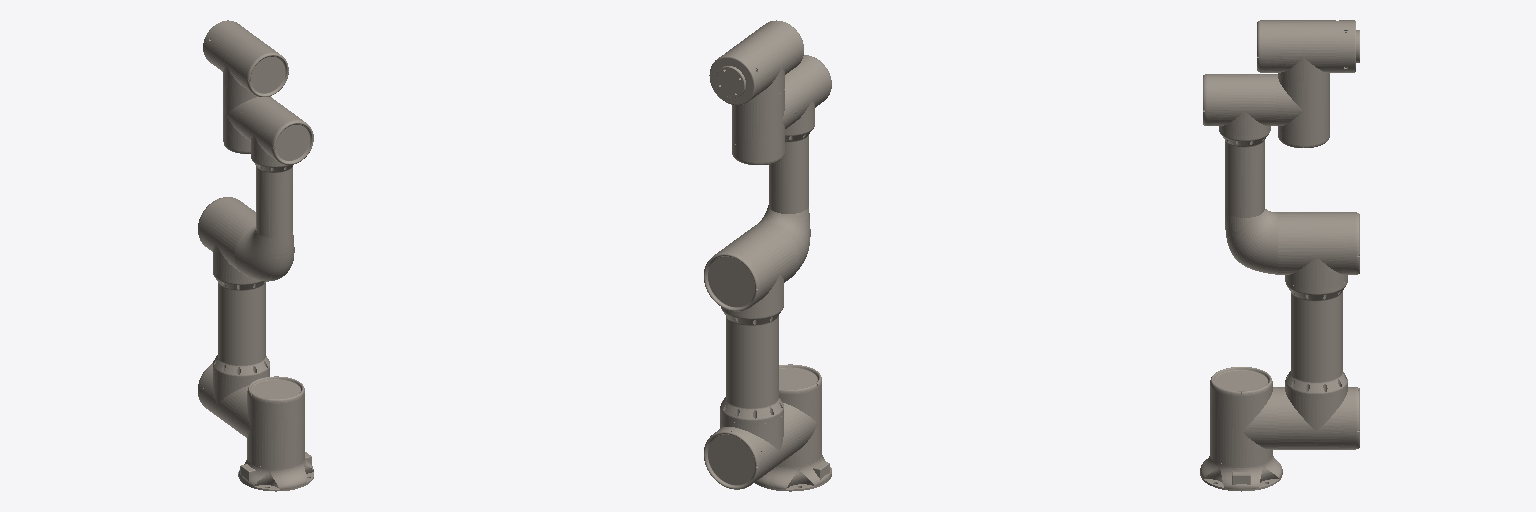
URDF robot description (UR06_ultimate):
<?xml version="1.0" encoding="utf-8"?>
<!-- This URDF was automatically created by SolidWorks to URDF Exporter! Originally created by [author] ([email redacted]) 
     Commit Version: 1.6.0-4-g7f85cfe  Build Version: 1.6.7995.38578
     For more information, please see http://wiki.ros.org/sw_urdf_exporter -->
<robot
  name="UR06_ultimate">
  <link
    name="link0">
    <inertial>
      <origin
        xyz="-4.144E-08 -0.0006154 0.01589"
        rpy="0 0 0" />
      <mass
        value="0.16219" />
      <inertia
        ixx="0.00030991"
        ixy="-8.26E-09"
        ixz="-1.746E-09"
        iyy="0.00035524"
        iyz="2.0585E-08"
        izz="0.00064359" />
    </inertial>
    <visual>
      <origin
        xyz="0 0 0"
        rpy="0 0 0" />
      <geometry>
        <mesh
          filename="package://UR06_ultimate/meshes/link0.STL" />
      </geometry>
      <material
        name="">
        <color
          rgba="0.64706 0.61961 0.58431 1" />
      </material>
    </visual>
    <collision>
      <origin
        xyz="0 0 0"
        rpy="0 0 0" />
      <geometry>
        <mesh
          filename="package://UR06_ultimate/meshes/link0.STL" />
      </geometry>
    </collision>
  </link>
  <link
    name="link1">
    <inertial>
      <origin
        xyz="-4.7258E-08 -0.0027908 0.009627"
        rpy="0 0 0" />
      <mass
        value="0.53717" />
      <inertia
        ixx="0.0013059"
        ixy="-1.5686E-08"
        ixz="-7.1034E-09"
        iyy="0.0017703"
        iyz="6.6403E-05"
        izz="0.0013242" />
    </inertial>
    <visual>
      <origin
        xyz="0 0 0"
        rpy="0 0 0" />
      <geometry>
        <mesh
          filename="package://UR06_ultimate/meshes/link1.STL" />
      </geometry>
      <material
        name="">
        <color
          rgba="0.64706 0.61961 0.58431 1" />
      </material>
    </visual>
    <collision>
      <origin
        xyz="0 0 0"
        rpy="0 0 0" />
      <geometry>
        <mesh
          filename="package://UR06_ultimate/meshes/link1.STL" />
      </geometry>
    </collision>
  </link>
  <joint
    name="joint1"
    type="revolute">
    <origin
      xyz="0 0 0.11815"
      rpy="-1.5708 0 0" />
    <parent
      link="link0" />
    <child
      link="link1" />
    <axis
      xyz="0 -1 0" />
    <limit
      lower="0"
      upper="0"
      effort="0"
      velocity="0" />
  </joint>
  <link
    name="link2">
    <inertial>
      <origin
        xyz="0.185 -1.1111E-08 0.14002"
        rpy="0 0 0" />
      <mass
        value="1.41" />
      <inertia
        ixx="0.0035915"
        ixy="1.523E-08"
        ixz="-4.9195E-10"
        iyy="0.0057466"
        iyz="3.9745E-10"
        izz="0.006604" />
    </inertial>
    <visual>
      <origin
        xyz="0 0 0"
        rpy="0 0 0" />
      <geometry>
        <mesh
          filename="package://UR06_ultimate/meshes/link2.STL" />
      </geometry>
      <material
        name="">
        <color
          rgba="0.64706 0.61961 0.58431 1" />
      </material>
    </visual>
    <collision>
      <origin
        xyz="0 0 0"
        rpy="0 0 0" />
      <geometry>
        <mesh
          filename="package://UR06_ultimate/meshes/link2.STL" />
      </geometry>
    </collision>
  </link>
  <joint
    name="joint2"
    type="revolute">
    <origin
      xyz="0 -0.37 0.00651"
      rpy="0 0 1.5708" />
    <parent
      link="link1" />
    <child
      link="link2" />
    <axis
      xyz="0 0 1" />
    <limit
      lower="0"
      upper="0"
      effort="0"
      velocity="0" />
  </joint>
  <link
    name="link3">
    <inertial>
      <origin
        xyz="0.068547 4.457E-06 0.0025763"
        rpy="0 0 0" />
      <mass
        value="0.74172" />
      <inertia
        ixx="0.0013931"
        ixy="-1.048E-07"
        ixz="-0.00010544"
        iyy="0.003881"
        iyz="2.3339E-09"
        izz="0.0039521" />
    </inertial>
    <visual>
      <origin
        xyz="0 0 0"
        rpy="0 0 0" />
      <geometry>
        <mesh
          filename="package://UR06_ultimate/meshes/link3.STL" />
      </geometry>
      <material
        name="">
        <color
          rgba="0.64706 0.61961 0.58431 1" />
      </material>
    </visual>
    <collision>
      <origin
        xyz="0 0 0"
        rpy="0 0 0" />
      <geometry>
        <mesh
          filename="package://UR06_ultimate/meshes/link3.STL" />
      </geometry>
    </collision>
  </link>
  <joint
    name="joint3"
    type="revolute">
    <origin
      xyz="-0.3035 0 0"
      rpy="0 0 0" />
    <parent
      link="link2" />
    <child
      link="link3" />
    <axis
      xyz="0 0 1" />
    <limit
      lower="0"
      upper="0"
      effort="0"
      velocity="0" />
  </joint>
  <link
    name="link4">
    <inertial>
      <origin
        xyz="-5.9851E-10 -0.0045319 0.0019801"
        rpy="0 0 0" />
      <mass
        value="0.45902" />
      <inertia
        ixx="0.00091024"
        ixy="-1.0462E-09"
        ixz="-7.8689E-10"
        iyy="0.00089706"
        iyz="-4.5208E-05"
        izz="0.00096119" />
    </inertial>
    <visual>
      <origin
        xyz="0 0 0"
        rpy="0 0 0" />
      <geometry>
        <mesh
          filename="package://UR06_ultimate/meshes/link4.STL" />
      </geometry>
      <material
        name="">
        <color
          rgba="0.64706 0.61961 0.58431 1" />
      </material>
    </visual>
    <collision>
      <origin
        xyz="0 0 0"
        rpy="0 0 0" />
      <geometry>
        <mesh
          filename="package://UR06_ultimate/meshes/link4.STL" />
      </geometry>
    </collision>
  </link>
  <joint
    name="joint4"
    type="revolute">
    <origin
      xyz="0 0 0.1135"
      rpy="1.5708 0 -1.5708" />
    <parent
      link="link3" />
    <child
      link="link4" />
    <axis
      xyz="0 1 0" />
    <limit
      lower="0"
      upper="0"
      effort="0"
      velocity="0" />
  </joint>
  <link
    name="link5">
    <inertial>
      <origin
        xyz="2.2854E-07 0.0052169 -0.0043802"
        rpy="0 0 0" />
      <mass
        value="0.50943" />
      <inertia
        ixx="0.00097574"
        ixy="-2.1973E-08"
        ixz="1.3808E-08"
        iyy="0.00097291"
        iyz="6.2628E-05"
        izz="0.0010393" />
    </inertial>
    <visual>
      <origin
        xyz="0 0 0"
        rpy="0 0 0" />
      <geometry>
        <mesh
          filename="package://UR06_ultimate/meshes/link5.STL" />
      </geometry>
      <material
        name="">
        <color
          rgba="0.64706 0.61961 0.58431 1" />
      </material>
    </visual>
    <collision>
      <origin
        xyz="0 0 0"
        rpy="0 0 0" />
      <geometry>
        <mesh
          filename="package://UR06_ultimate/meshes/link5.STL" />
      </geometry>
    </collision>
  </link>
  <joint
    name="joint5"
    type="revolute">
    <origin
      xyz="0 0 0.1135"
      rpy="-1.5708 0 0" />
    <parent
      link="link4" />
    <child
      link="link5" />
    <axis
      xyz="0 -1 0" />
    <limit
      lower="0"
      upper="0"
      effort="0"
      velocity="0" />
  </joint>
  <link
    name="link6">
    <inertial>
      <origin
        xyz="-3.0239E-11 4.3019E-11 -0.017378"
        rpy="0 0 0" />
      <mass
        value="0.10979" />
      <inertia
        ixx="0.00010596"
        ixy="-3.2789E-19"
        ixz="-1.4641E-13"
        iyy="0.00010596"
        iyz="7.3995E-14"
        izz="0.00017374" />
    </inertial>
    <visual>
      <origin
        xyz="0 0 0"
        rpy="0 0 0" />
      <geometry>
        <mesh
          filename="package://UR06_ultimate/meshes/link6.STL" />
      </geometry>
      <material
        name="">
        <color
          rgba="0.64706 0.61961 0.58431 1" />
      </material>
    </visual>
    <collision>
      <origin
        xyz="0 0 0"
        rpy="0 0 0" />
      <geometry>
        <mesh
          filename="package://UR06_ultimate/meshes/link6.STL" />
      </geometry>
    </collision>
  </link>
  <joint
    name="joint6"
    type="revolute">
    <origin
      xyz="0 0 0.107"
      rpy="0 0 0" />
    <parent
      link="link5" />
    <child
      link="link6" />
    <axis
      xyz="0 0 -1" />
    <limit
      lower="0"
      upper="0"
      effort="0"
      velocity="0" />
  </joint>
</robot>

--- What the picture shows (computed from the rendered views, not written in the file) ---
The picture shows the robot from 3 angles, left to right: view 1: azimuth 30°, elevation 25°; view 2: azimuth 150°, elevation 25°; view 3: azimuth 270°, elevation 25°; orthographic projection.
Model UR06_ultimate with 7 links and 6 joints (6 revolute), rooted at link0, posed every joint at zero.
Visible links, largest first — view 1: link2, link3, link1, link5, link0, link4, link6; view 2: link2, link3, link4, link1, link5, link6, link0; view 3: link2, link3, link1, link5, link4, link0, link6.
Link boxes in pixels (<box>): link2: <box>198,197,269,433</box>; link3: <box>234,97,313,281</box>; link1: <box>235,376,304,467</box>; link5: <box>212,27,288,96</box>; link0: <box>238,452,313,491</box>; link4: <box>223,84,271,153</box>; link6: <box>203,20,244,65</box>; link2: <box>704,223,798,489</box>; link3: <box>758,55,831,274</box>; link4: <box>732,89,795,164</box>; link1: <box>779,364,821,465</box>; link5: <box>730,20,803,97</box>; link6: <box>709,49,764,104</box>; link0: <box>755,455,831,491</box>; link2: <box>1278,212,1359,449</box>; link3: <box>1203,74,1277,274</box>; link1: <box>1210,367,1277,466</box>; link5: <box>1257,20,1335,82</box>; link4: <box>1276,74,1329,147</box>; link0: <box>1200,455,1282,491</box>; link6: <box>1336,20,1359,72</box>.
Bounding box of the posed robot: 0.1581 × 0.3061 × 0.9551 m (x, y, z).
7 mesh visuals loaded from 7 distinct referenced files (7 binary STL).